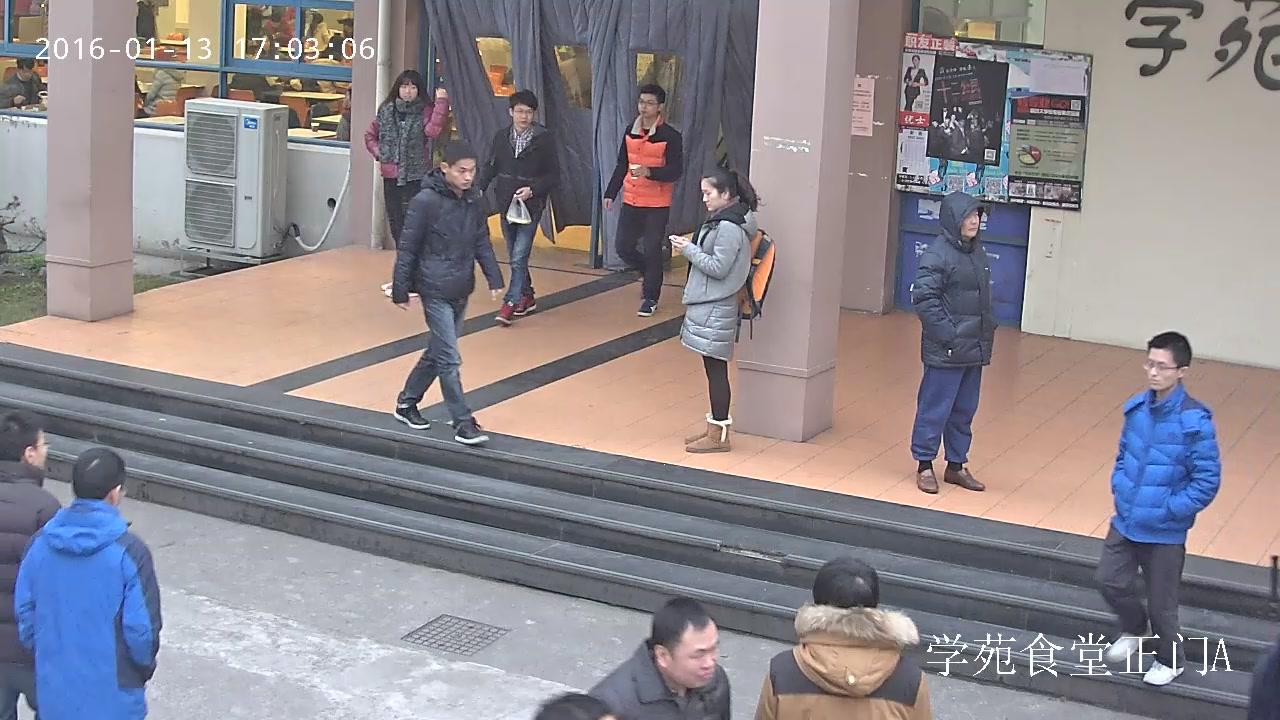person: (1094, 331, 1220, 685), (13, 448, 161, 720), (391, 145, 506, 444), (668, 168, 775, 452), (750, 557, 930, 720), (909, 190, 998, 493), (476, 89, 560, 324), (0, 412, 63, 720), (603, 82, 683, 316), (586, 595, 729, 720), (364, 69, 450, 251), (137, 48, 183, 118), (1, 56, 42, 107), (903, 54, 927, 111), (136, 0, 159, 46), (305, 11, 328, 57)
